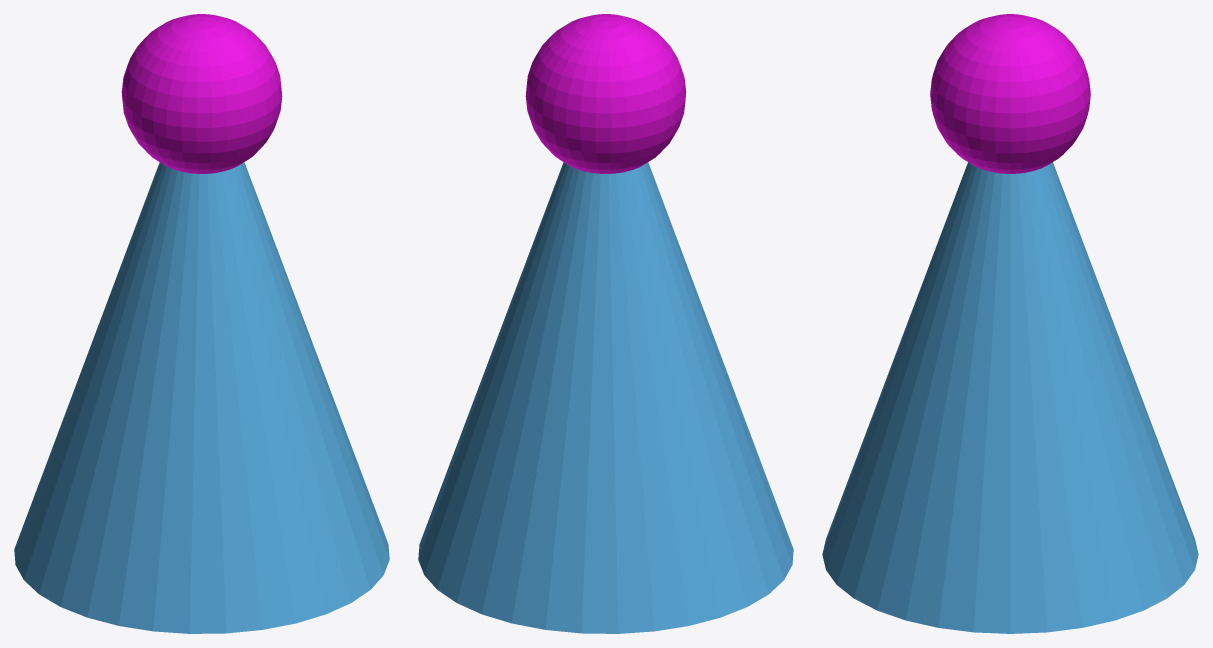
File: PartyHat.fbx
3 views of the same model, side by side, from view 1: azimuth 30°, elevation 25°; view 2: azimuth 150°, elevation 25°; view 3: azimuth 270°, elevation 25° (orthographic).
Visible parts, largest first — view 1: Cone, Sphere; view 2: Cone, Sphere; view 3: Cone, Sphere.
Part boxes in pixels (x1,y1,x2,y2): Cone: [14, 162, 389, 633]; Sphere: [121, 14, 282, 173]; Cone: [418, 162, 793, 633]; Sphere: [525, 14, 686, 173]; Cone: [822, 162, 1198, 633]; Sphere: [930, 14, 1090, 173].
Bounding box in the file's own units: 135 × 211 × 135.
